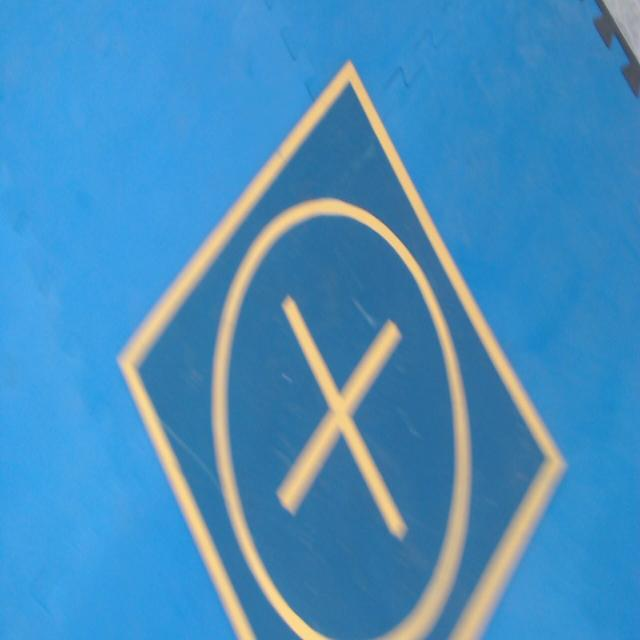base_pouso: (117, 56, 570, 639)
